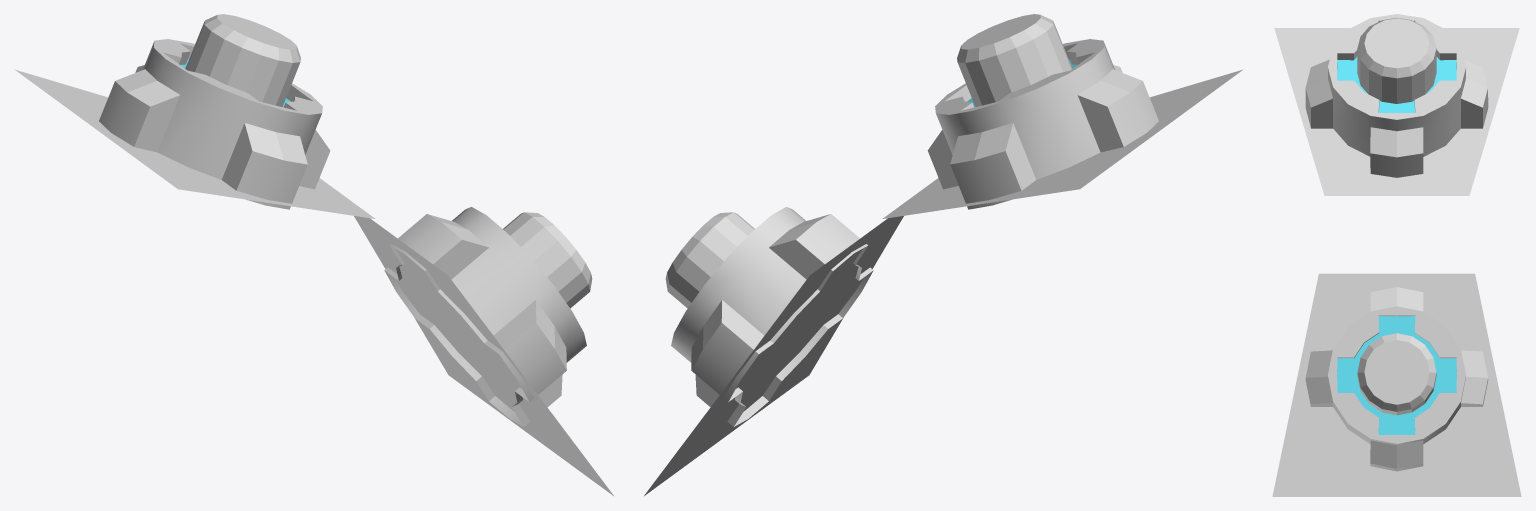
File: Mod_Pauldron_L_Mirage1.fbx
3 renders of one model, left to right at view 1: azimuth 30°, elevation 25°; view 2: azimuth 150°, elevation 25°; view 3: azimuth 270°, elevation 25°, orthographic. The views are drawn at different scales.
Visible parts, largest first — view 1: Mod_Pauldron_L_Mirage1; view 2: Mod_Pauldron_L_Mirage1; view 3: Mod_Pauldron_L_Mirage1.
Part boxes in pixels (bbox=[...]): Mod_Pauldron_L_Mirage1: bbox=[14, 14, 613, 495]; Mod_Pauldron_L_Mirage1: bbox=[644, 14, 1243, 495]; Mod_Pauldron_L_Mirage1: bbox=[1272, 14, 1521, 496].
Size of the model in its own units: 244 by 233 by 144.
